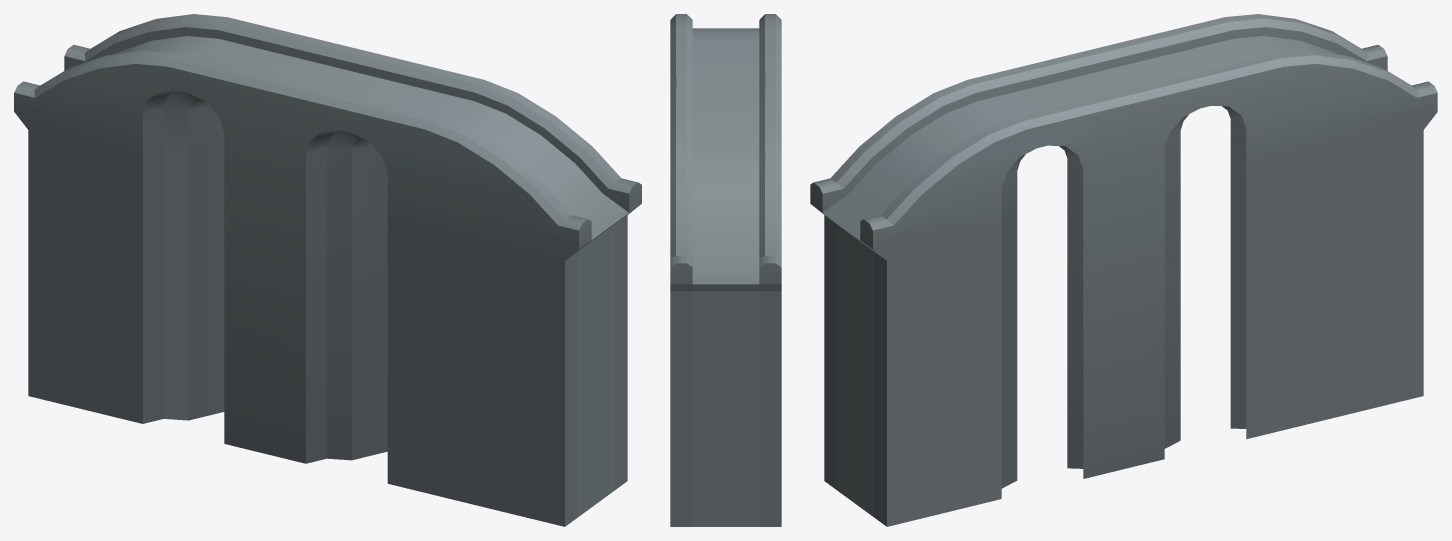
Rendered from kay-ponte-pedra.gltf.
The picture shows the model from 3 angles, left to right: view 1: azimuth 30°, elevation 25°; view 2: azimuth 150°, elevation 25°; view 3: azimuth 270°, elevation 25°; orthographic projection. The views are drawn at different scales.
Visible parts, largest first — view 1: building_bridge_A; view 2: building_bridge_A; view 3: building_bridge_A.
Boxes of the visible parts, x1,y1,x2,y2 form: building_bridge_A: (14, 14, 641, 526); building_bridge_A: (670, 14, 781, 526); building_bridge_A: (810, 14, 1437, 526).
Size of the model in its own units: 6.67 by 6.25 by 9.62.
1 material, 1 textured.
